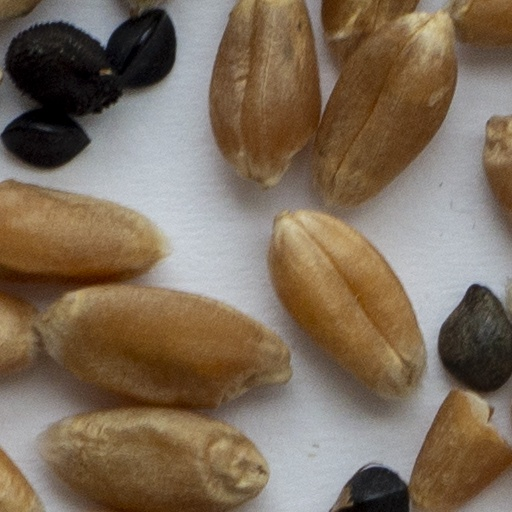Convolvulus-poly: (436, 280, 511, 392)
Fallopia-Convolvulus-poly: (325, 461, 410, 511)
Wheat-grain-damaged-poly: (408, 387, 511, 511)
